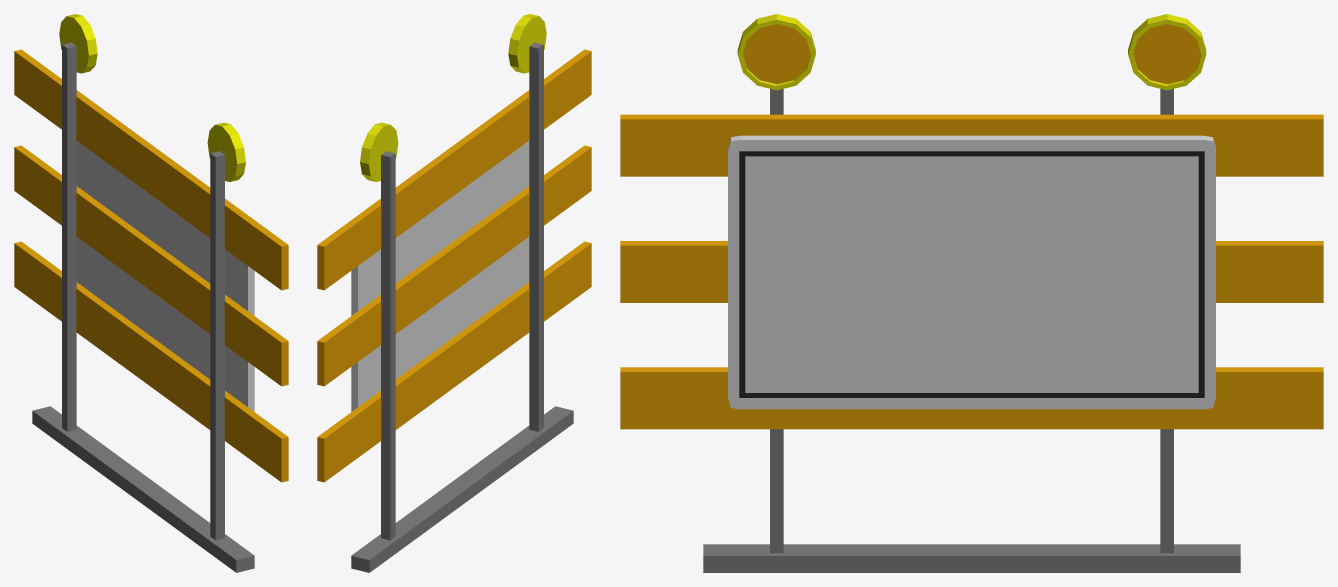
The model's file is RoadClosed_02.fbx.
3 renders of one model, left to right at view 1: azimuth 30°, elevation 25°; view 2: azimuth 150°, elevation 25°; view 3: azimuth 270°, elevation 25°, orthographic. The views are drawn at different scales.
Parts seen in each view (by area): view 1: RoadClosed_02; view 2: RoadClosed_02; view 3: RoadClosed_02.
Boxes of the visible parts, left/top/right/bottom form: RoadClosed_02: left=14, top=14, right=288, bottom=572; RoadClosed_02: left=317, top=14, right=591, bottom=572; RoadClosed_02: left=620, top=14, right=1323, bottom=572.
Size of the model in its own units: 1.5 by 22.01 by 25.24.
